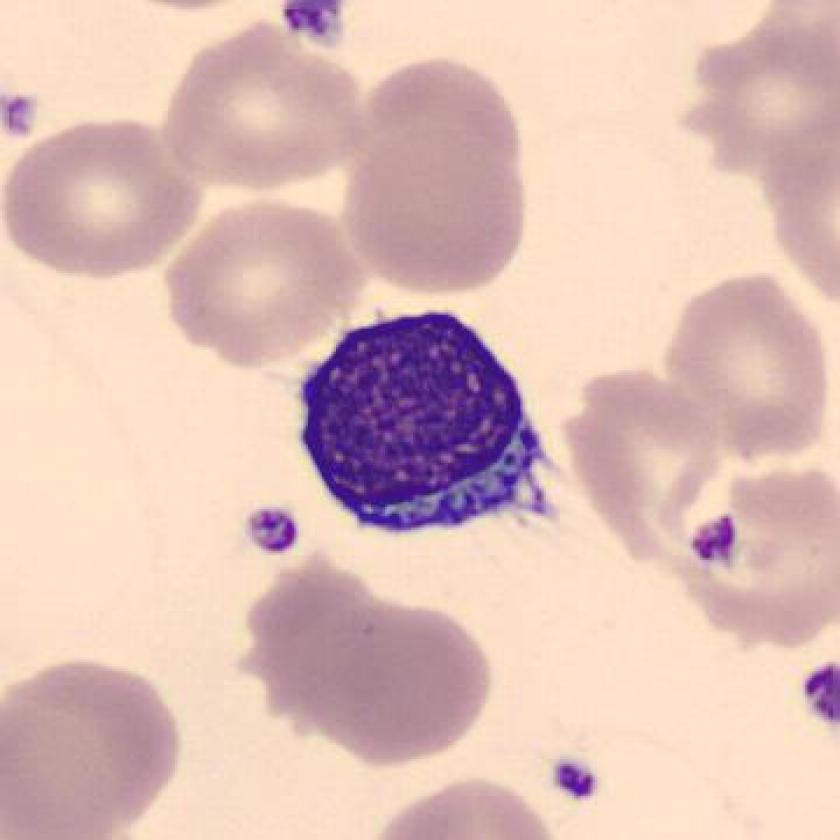lymphocyte: (279, 295, 568, 561)
